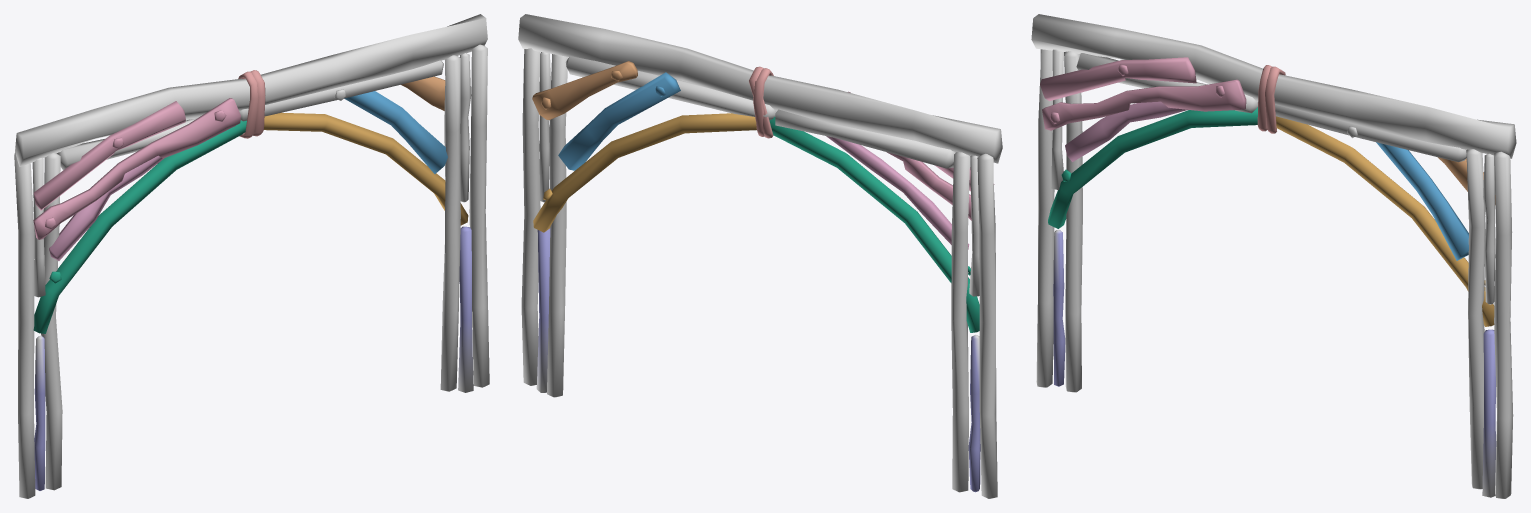
Rendered from PBW_W1_Archway.glb.
3 renders of one model, left to right at view 1: azimuth 30°, elevation 25°; view 2: azimuth 150°, elevation 25°; view 3: azimuth 330°, elevation 25°, orthographic.
Parts seen in each view (by area): view 1: PBW_W1_Archway; view 2: PBW_W1_Archway; view 3: PBW_W1_Archway.
Boxes of the visible parts, x1=… form: PBW_W1_Archway: x1=14, y1=14, x2=489, y2=498; PBW_W1_Archway: x1=518, y1=14, x2=1002, y2=498; PBW_W1_Archway: x1=1031, y1=14, x2=1516, y2=498.
Size of the model in its own units: 5.13 by 3.92 by 0.4803.
